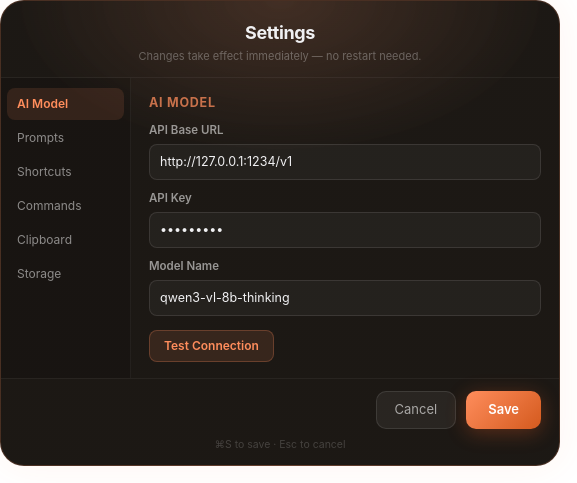
SettingsView › Test Connection shows error on failure
Click the button with test id "settings-test-btn" at {"x": 211, "y": 346}, box [149,330,274,362]
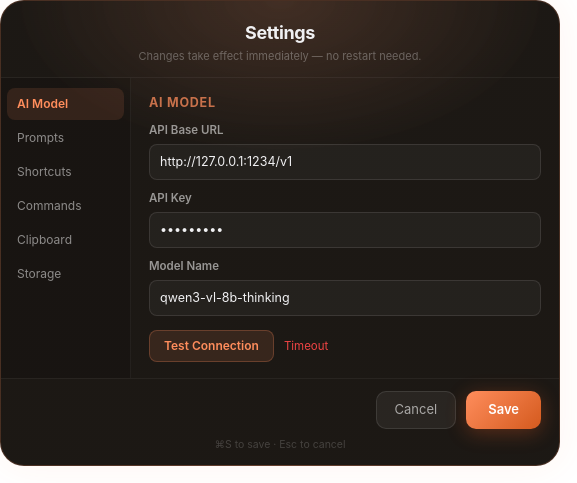
Now the text with test id "settings-test-result" reads "Timeout", box [284,339,328,353]
